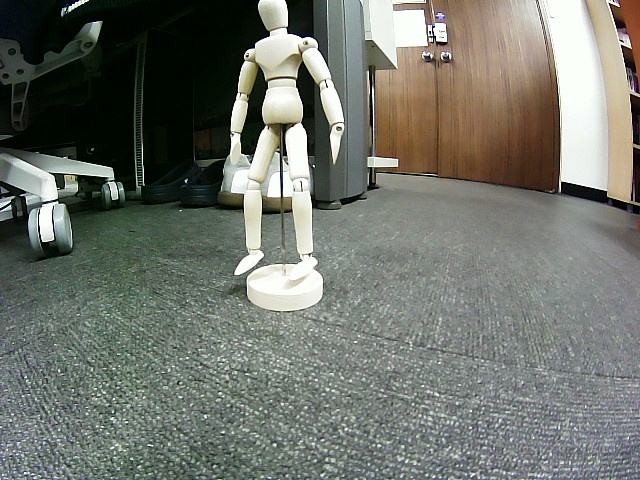person: (230, 1, 345, 276)
